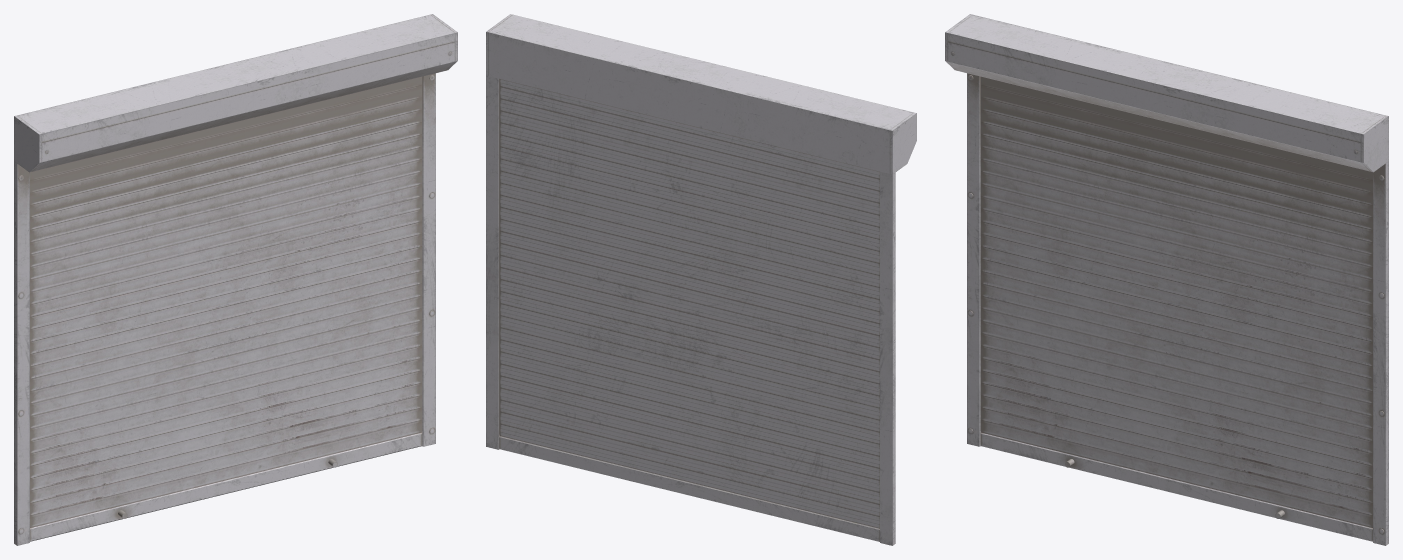
File: Shutter.fbx
3 views of the same model, side by side, from view 1: azimuth 30°, elevation 25°; view 2: azimuth 150°, elevation 25°; view 3: azimuth 330°, elevation 25° (orthographic). The views are drawn at different scales.
Visible parts, largest first — view 1: rollershutter_window_02; view 2: rollershutter_window_02; view 3: rollershutter_window_02.
Part boxes in pixels (x1,y1,x2,y2): rollershutter_window_02: [14, 14, 457, 545]; rollershutter_window_02: [486, 14, 916, 545]; rollershutter_window_02: [945, 14, 1388, 545].
Size of the model in its own units: 1.6 by 1.56 by 0.1681.
